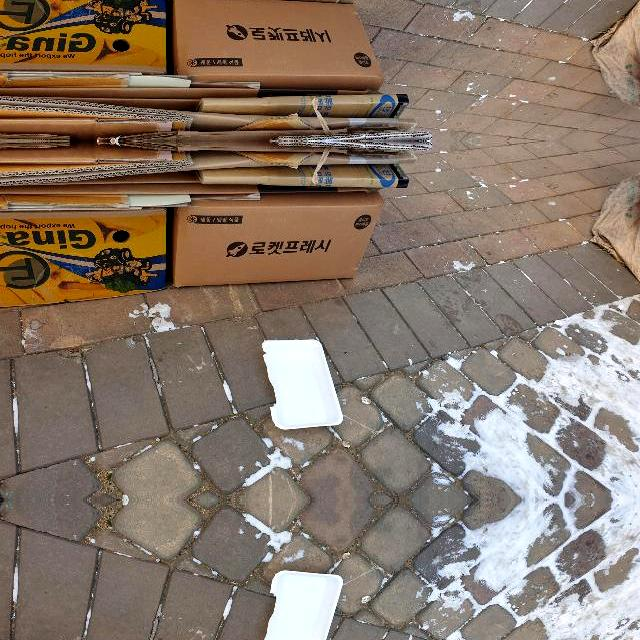Styrofoam: (262, 338, 344, 428), (262, 339, 343, 429), (262, 569, 343, 640), (264, 569, 343, 640)
